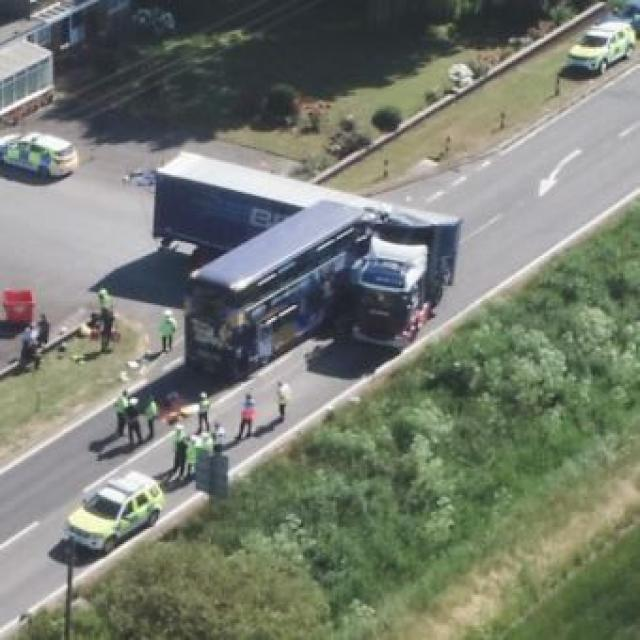traffic_incident: (192, 186, 454, 388)
